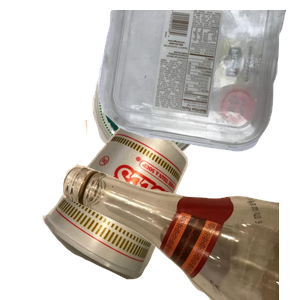glass: (60, 120, 300, 300)
metal: (90, 44, 289, 195)
plastic: (95, 10, 300, 154)
trash: (40, 121, 221, 300)
